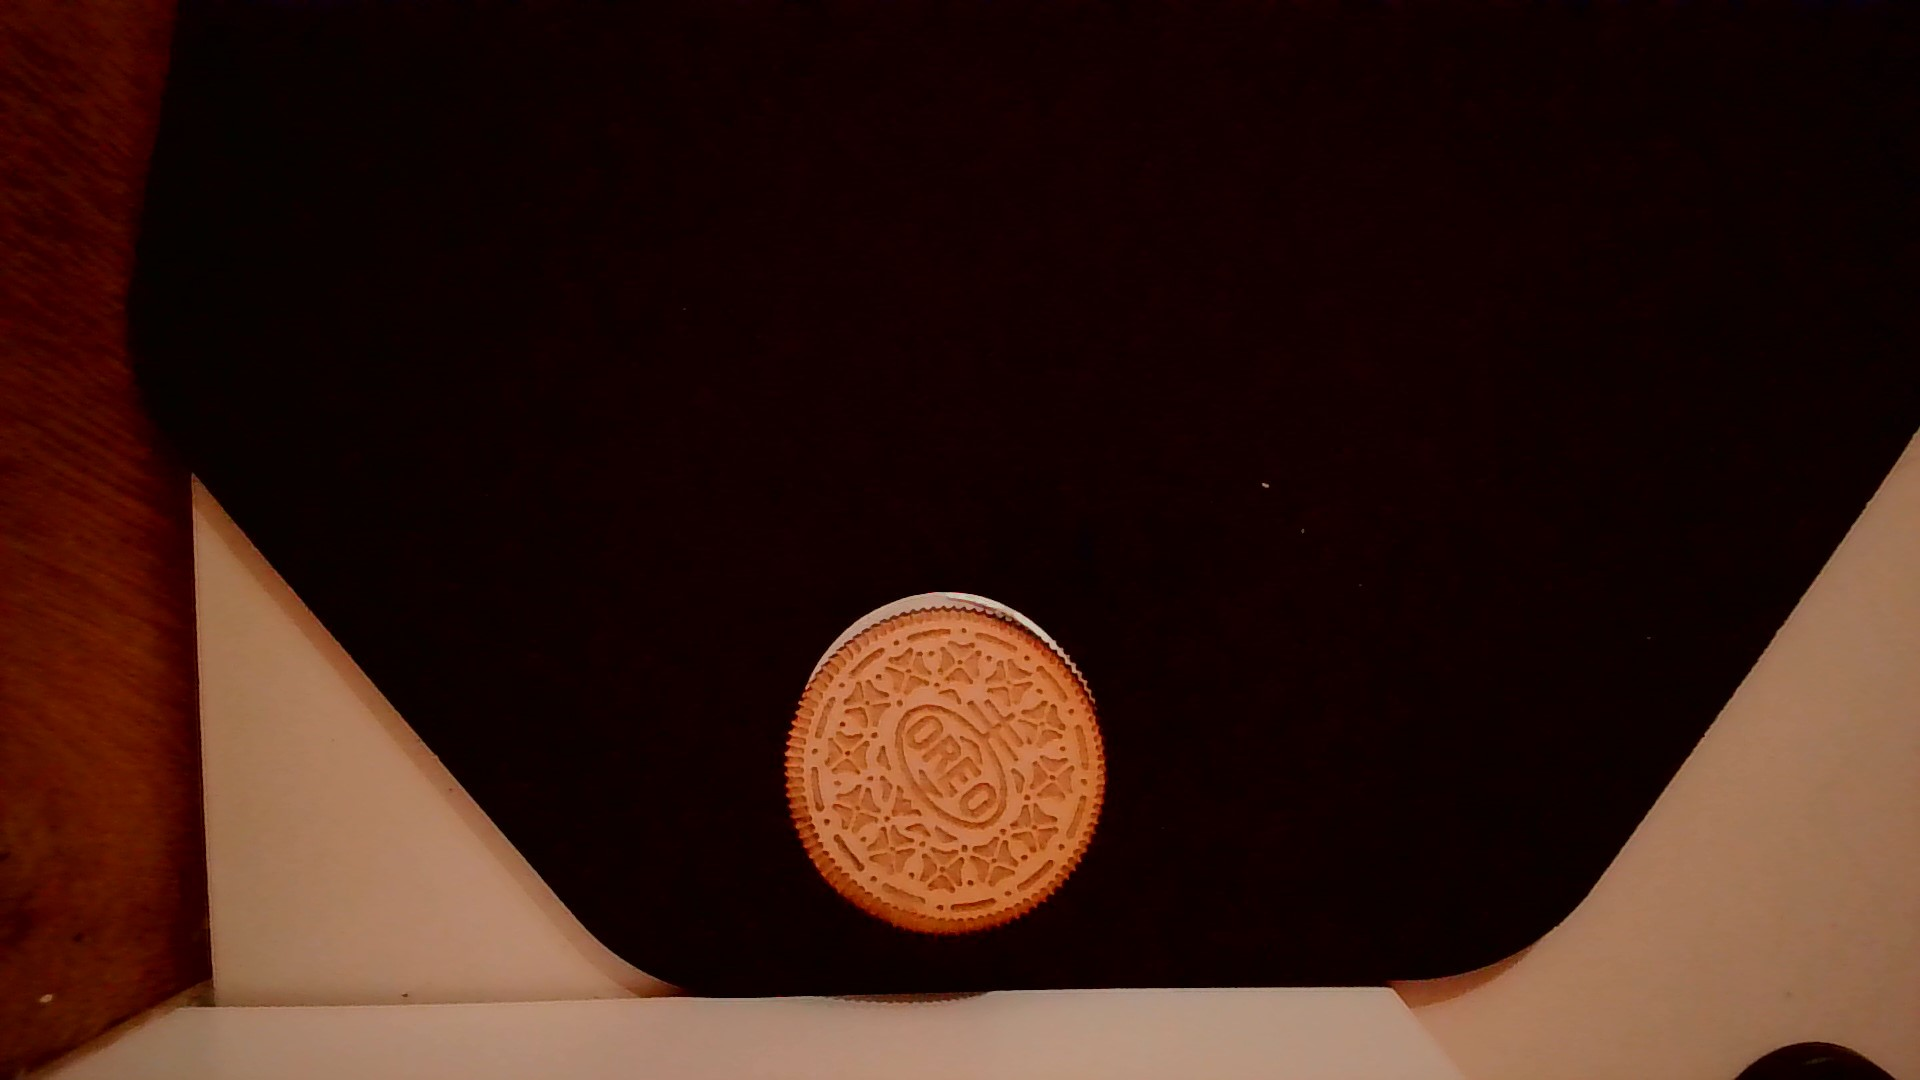Décalé: (790, 583, 1114, 727)
Oréo: (774, 593, 1113, 945)
